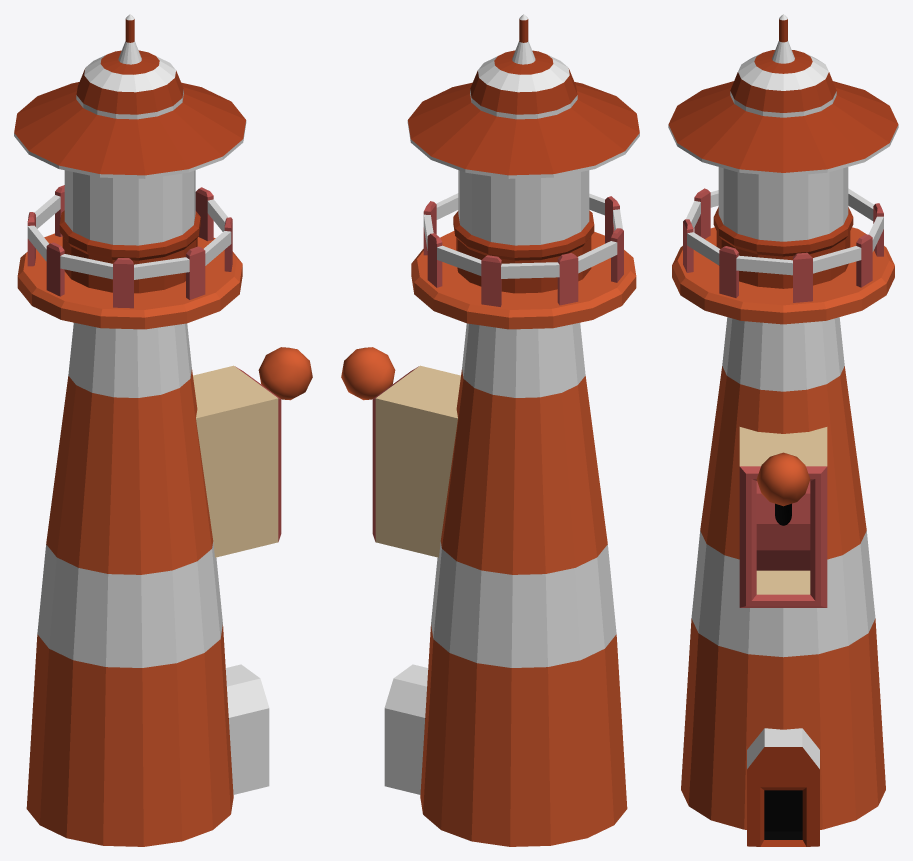
Rendered from lighthouse.fbx.
The picture shows the model from 3 angles, left to right: view 1: azimuth 30°, elevation 25°; view 2: azimuth 150°, elevation 25°; view 3: azimuth 270°, elevation 25°; orthographic projection.
Visible parts, largest first — view 1: Cylinder, Cylinder.001, Cube, Cylinder.002; view 2: Cylinder, Cylinder.001, Cube, Cylinder.002; view 3: Cylinder, Cylinder.001, Cube, Cylinder.002.
Boxes of the visible parts, x1=… form: Cylinder: x1=14, y1=14, x2=246, y2=846; Cylinder.001: x1=193, y1=365, x2=281, y2=557; Cube: x1=225, y1=664, x2=269, y2=794; Cylinder.002: x1=258, y1=347, x2=312, y2=400; Cylinder: x1=407, y1=14, x2=639, y2=846; Cylinder.001: x1=372, y1=365, x2=460, y2=557; Cube: x1=384, y1=664, x2=428, y2=794; Cylinder.002: x1=341, y1=347, x2=395, y2=400; Cylinder: x1=668, y1=14, x2=898, y2=829; Cylinder.001: x1=739, y1=427, x2=827, y2=607; Cube: x1=747, y1=728, x2=819, y2=846; Cylinder.002: x1=756, y1=452, x2=810, y2=525.
Bounding box in the file's own units: 602 × 1618 × 435.
